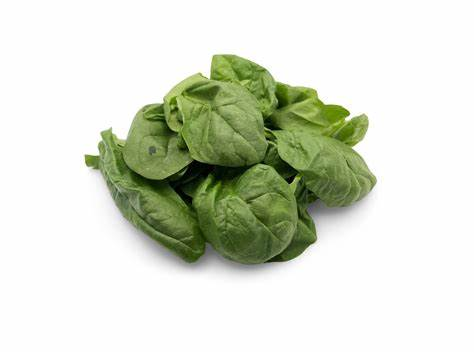Spinach: (78, 49, 379, 273)
